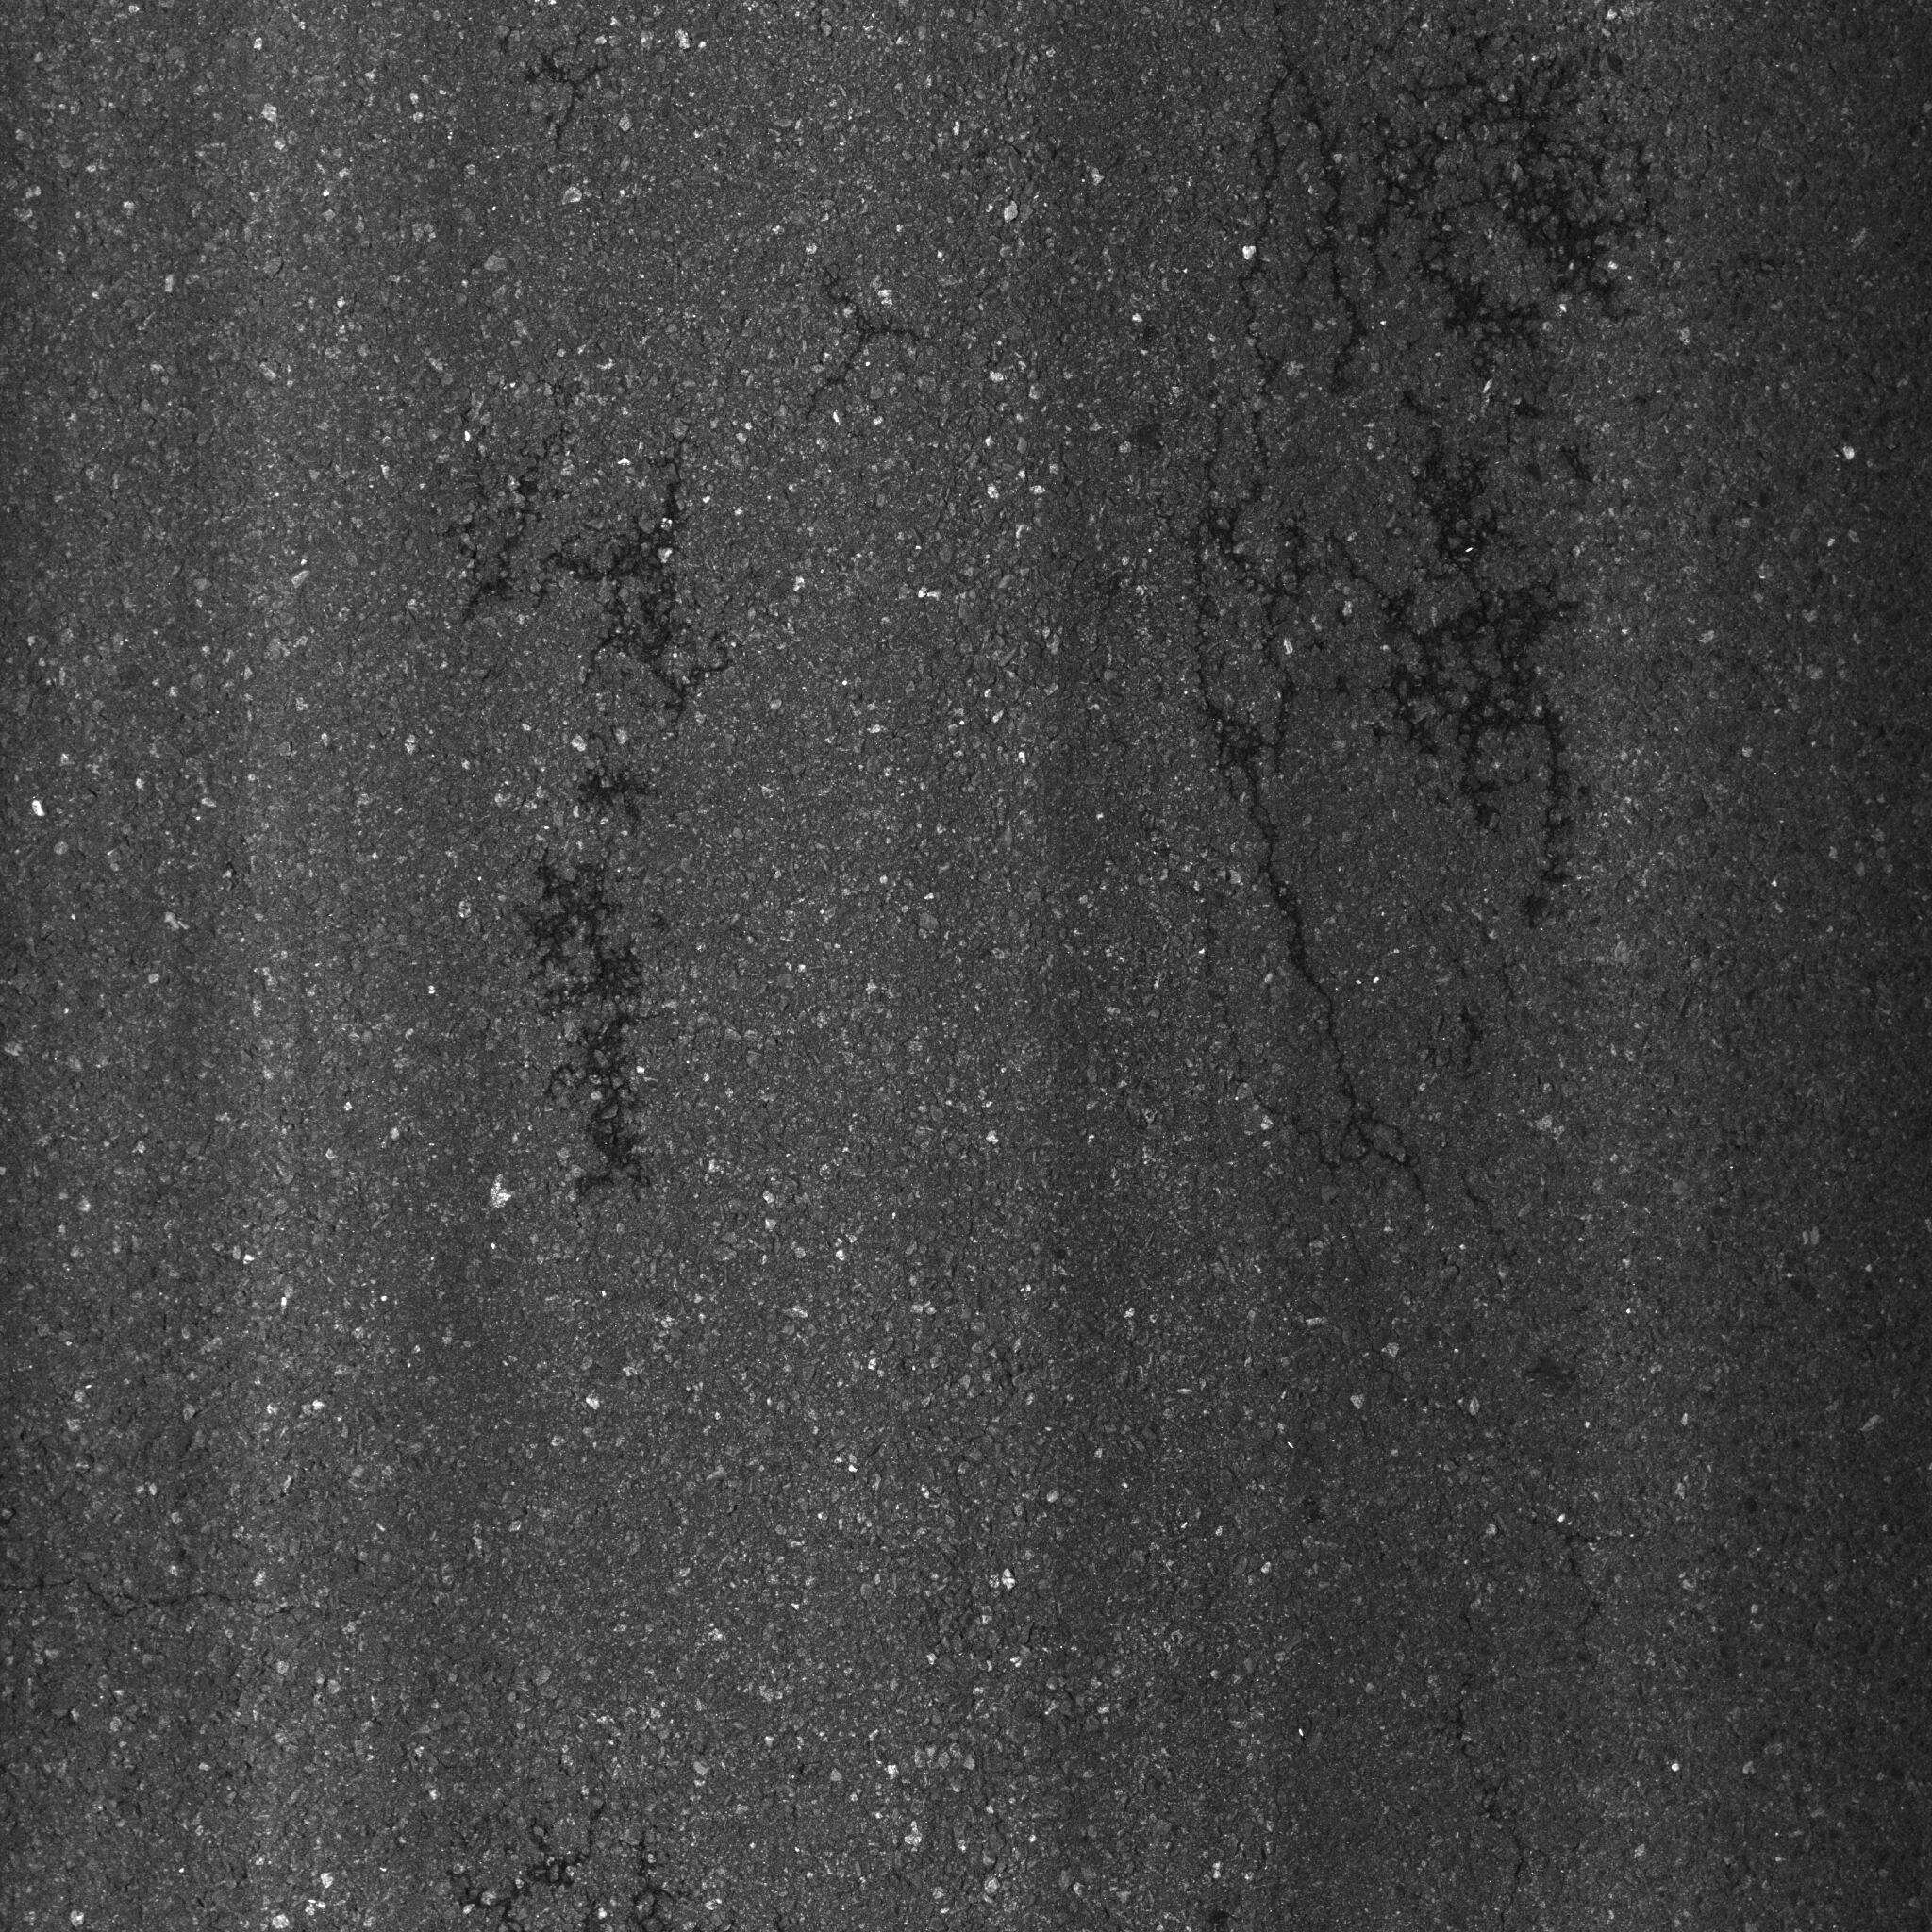alligator: (1166, 4, 1698, 1284)
